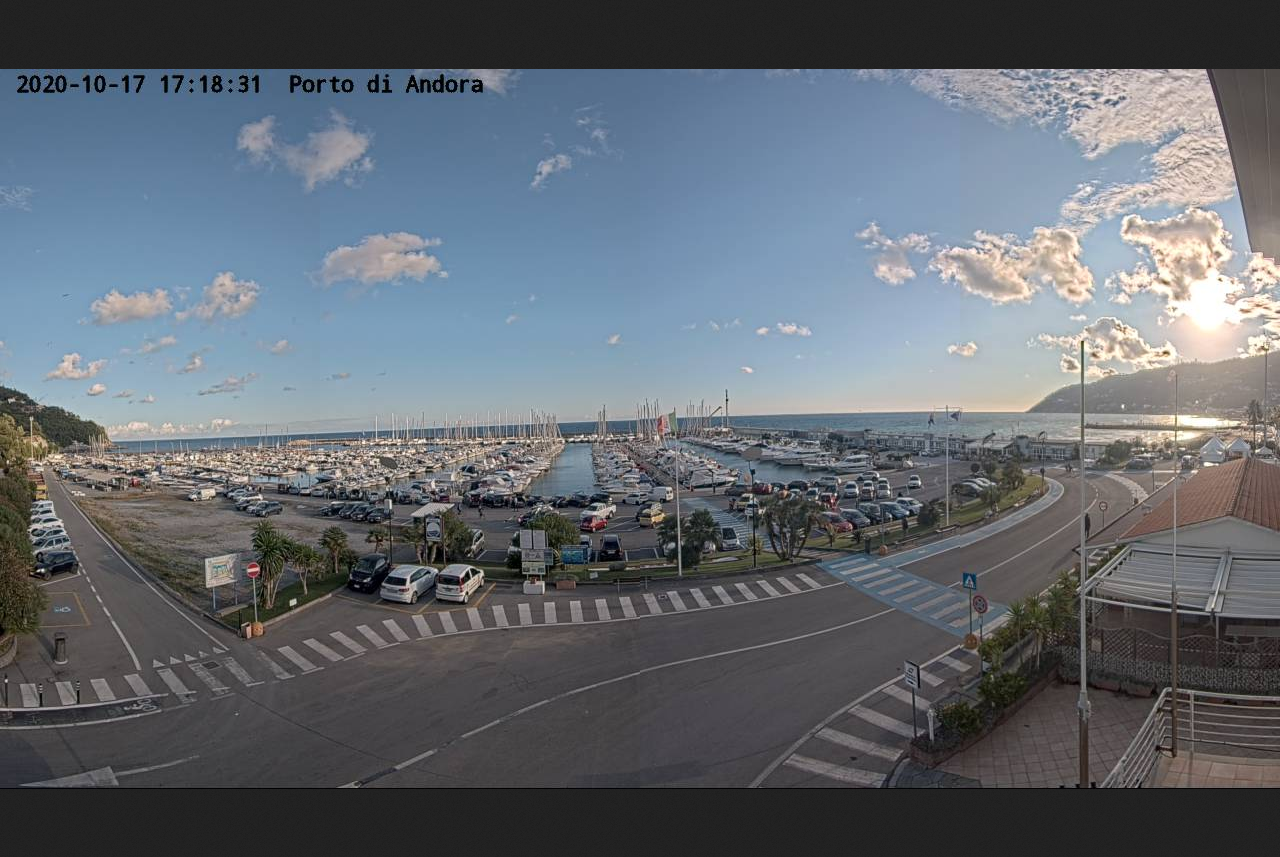yes: (654, 407, 682, 436)
